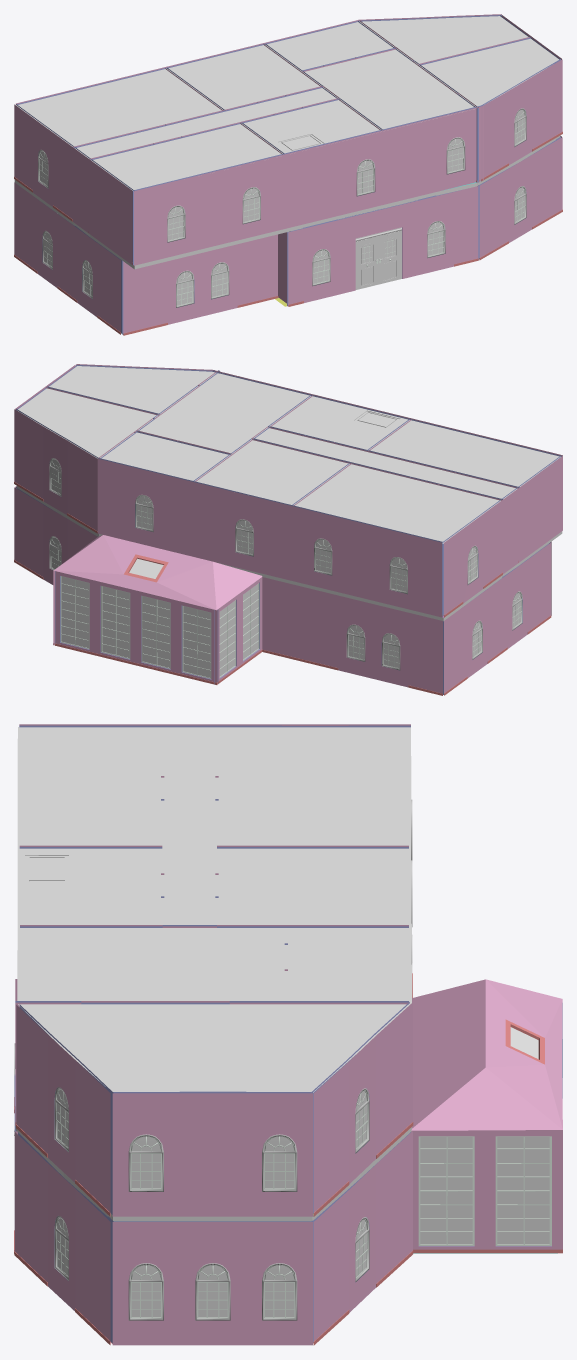
The model's file is VR House_complete.fbx.
3 views of the same model, one above another, from view 1: azimuth 30°, elevation 25°; view 2: azimuth 150°, elevation 25°; view 3: azimuth 270°, elevation 25° (orthographic). The views are drawn at different scales.
Parts seen in each view (by area): view 1: Plane.005, Basic_Wall_01.015, Basic_Wall_01.094, Basic_Wall_01.054, Basic_Wall_01.093, Basic_Wall_01.096, Basic_Wall_01.030, Basic_Wall_01.032, Plane.004, Wall_Window_07.026, Wall_Window_07.014, Wall_Window_07.015 (+31 smaller); view 2: Plane.005, Basic_Wall_01.047, Basic_Wall_01.066, Basic_Wall_01.068, Basic_Wall_01.065, Basic_Wall_01.010, Basic_Wall_01.022, Basic_Wall_01.023, Basic_Wall_01.064, Wall_Window_07.021, Wall_Window_07.024, Wall_Window_07.023 (+36 smaller); view 3: Plane.005, Basic_Wall_01.047, Basic_Wall_01.106, Wall_Window_07.004, Wall_Window_07.005, Wall_Window_07.018, Wall_Window_07.003, Wall_Window_07.016, Window_Left_01.007, Window_Left_01.008, Basic_Wall_01.055, Basic_Wall_01.019 (+20 smaller).
Part boxes in pixels (left/top/right/bottom): Plane.005: left=15, top=16, right=558, bottom=190; Basic_Wall_01.015: left=338, top=200, right=418, bottom=294; Basic_Wall_01.094: left=268, top=147, right=312, bottom=232; Basic_Wall_01.054: left=397, top=116, right=438, bottom=201; Basic_Wall_01.093: left=192, top=166, right=234, bottom=250; Basic_Wall_01.096: left=311, top=138, right=348, bottom=221; Basic_Wall_01.030: left=127, top=261, right=167, bottom=334; Basic_Wall_01.032: left=237, top=234, right=278, bottom=307; Plane.004: left=14, top=136, right=560, bottom=269; Wall_Window_07.026: left=233, top=157, right=269, bottom=241; Wall_Window_07.014: left=347, top=129, right=383, bottom=213; Wall_Window_07.015: left=437, top=108, right=473, bottom=191; Plane.005: left=17, top=366, right=560, bottom=543; Basic_Wall_01.047: left=54, top=535, right=262, bottom=610; Basic_Wall_01.066: left=262, top=498, right=306, bottom=583; Basic_Wall_01.068: left=340, top=517, right=382, bottom=602; Basic_Wall_01.065: left=162, top=473, right=203, bottom=558; Basic_Wall_01.010: left=262, top=577, right=302, bottom=661; Basic_Wall_01.022: left=302, top=587, right=338, bottom=670; Basic_Wall_01.023: left=408, top=613, right=443, bottom=695; Basic_Wall_01.064: left=97, top=458, right=127, bottom=540; Wall_Window_07.021: left=126, top=465, right=162, bottom=548; Wall_Window_07.024: left=305, top=509, right=341, bottom=592; Wall_Window_07.023: left=381, top=527, right=417, bottom=610; Plane.005: left=17, top=727, right=411, bottom=1092; Basic_Wall_01.047: left=411, top=979, right=562, bottom=1130; Basic_Wall_01.106: left=179, top=1091, right=246, bottom=1216; Wall_Window_07.004: left=179, top=1221, right=246, bottom=1345; Wall_Window_07.005: left=112, top=1221, right=179, bottom=1345; Wall_Window_07.018: left=112, top=1092, right=179, bottom=1216; Wall_Window_07.003: left=246, top=1220, right=312, bottom=1345; Wall_Window_07.016: left=246, top=1092, right=312, bottom=1216; Window_Left_01.007: left=418, top=1136, right=474, bottom=1245; Window_Left_01.008: left=495, top=1136, right=551, bottom=1245; Basic_Wall_01.055: left=313, top=1061, right=349, bottom=1213; Basic_Wall_01.019: left=313, top=1190, right=349, bottom=1342.
Size of the model in its own units: 2620 by 834 by 1645.
